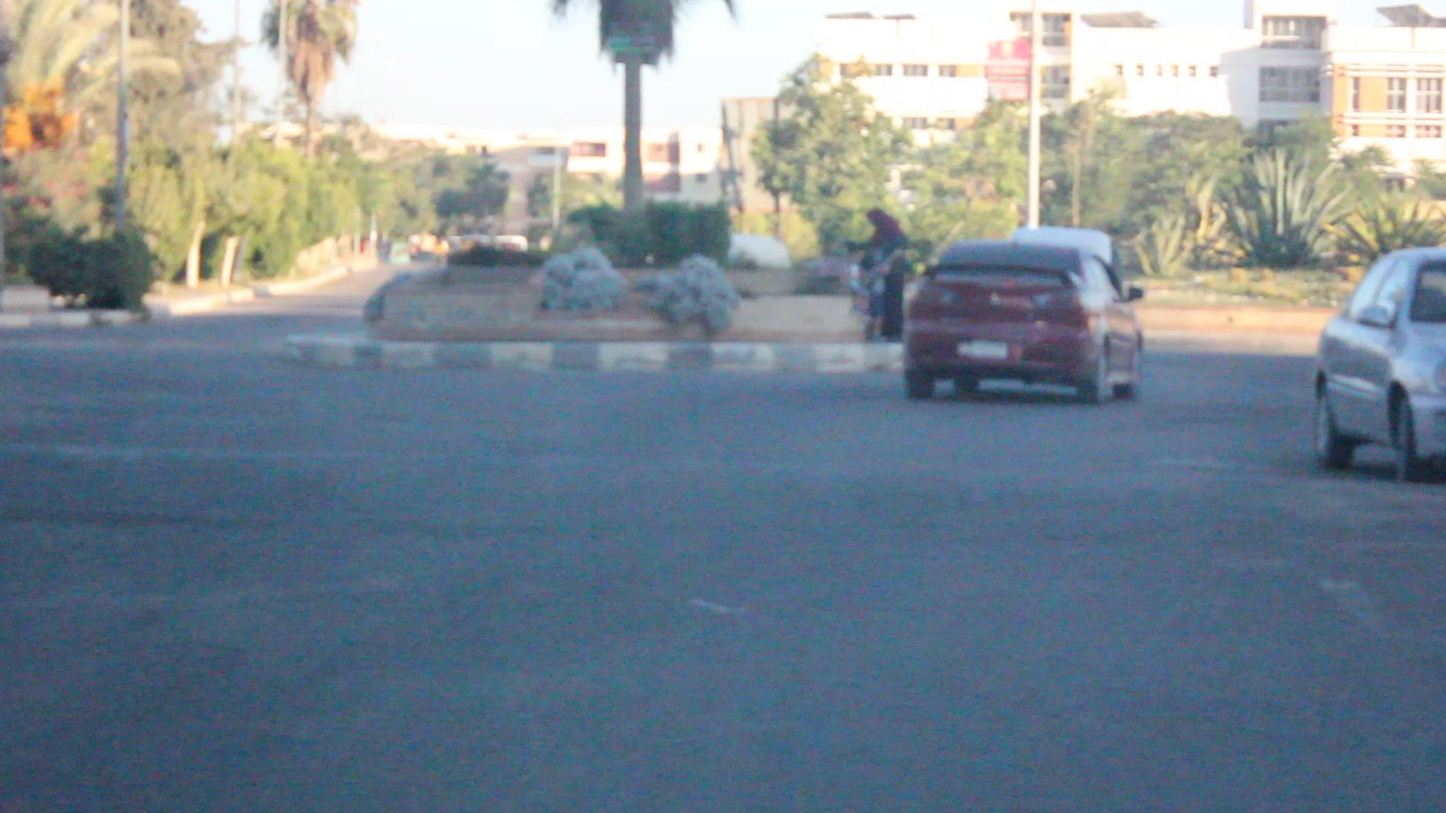Bump: (2, 406, 1446, 570)
